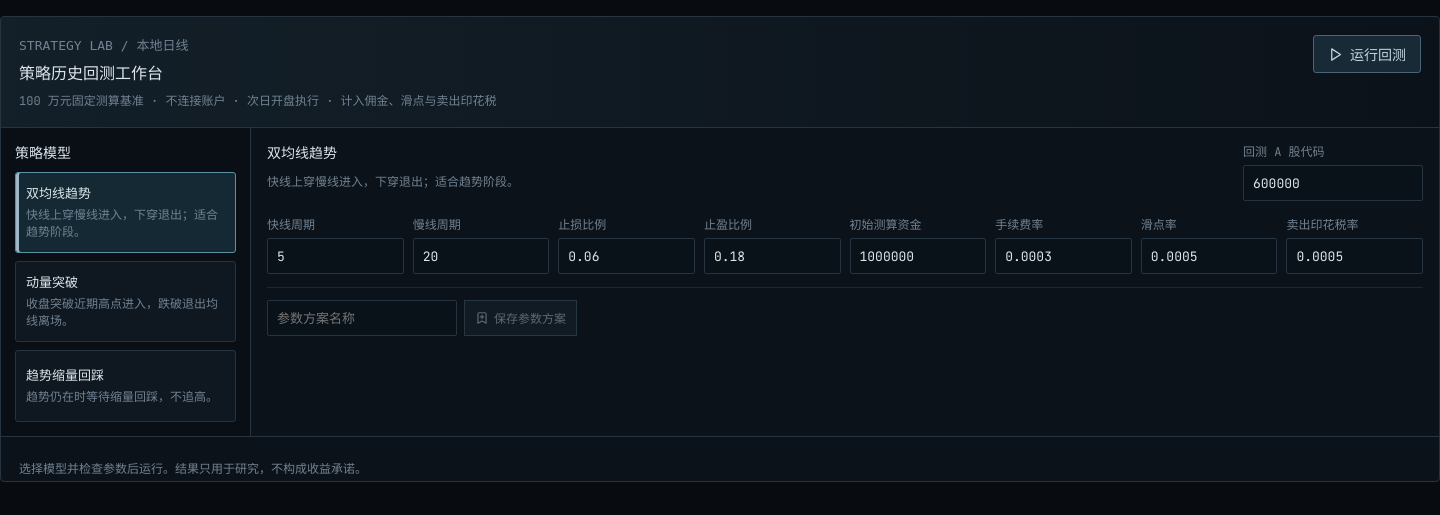
Test: BacktestPanel › asks for history sync when API returns a conflict
This screenshot has width=1440, height=515.
Click the button "运行回测": [1367, 54] box [1313,35,1421,73]
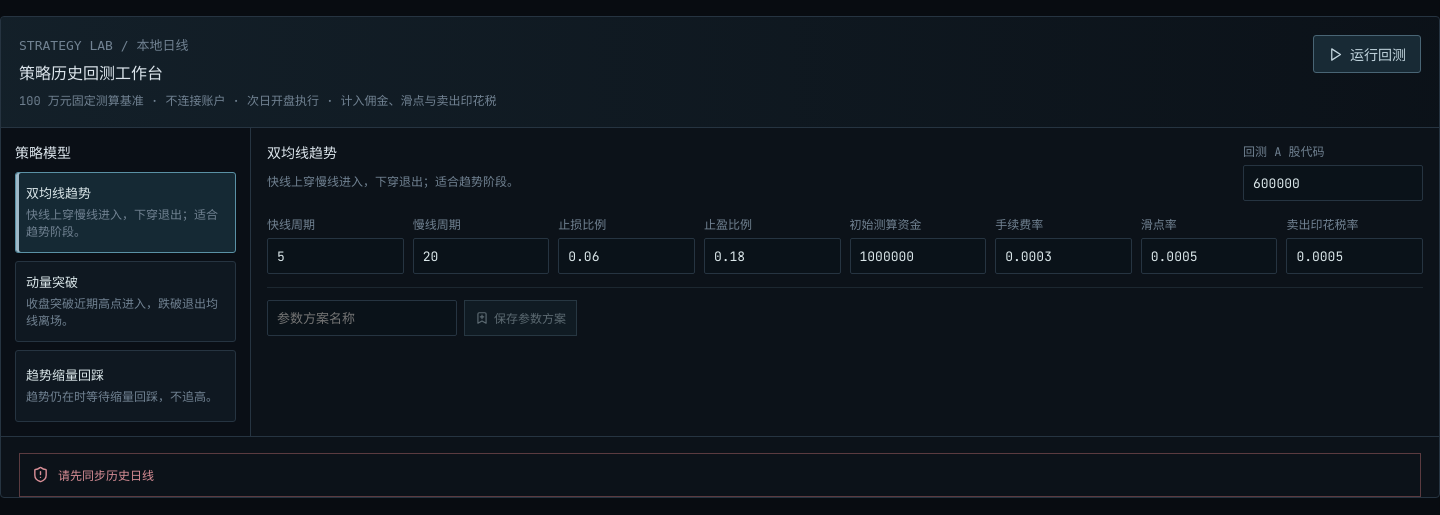
Check: the message reads "请先同步历史日线", box [58,468,154,484]
